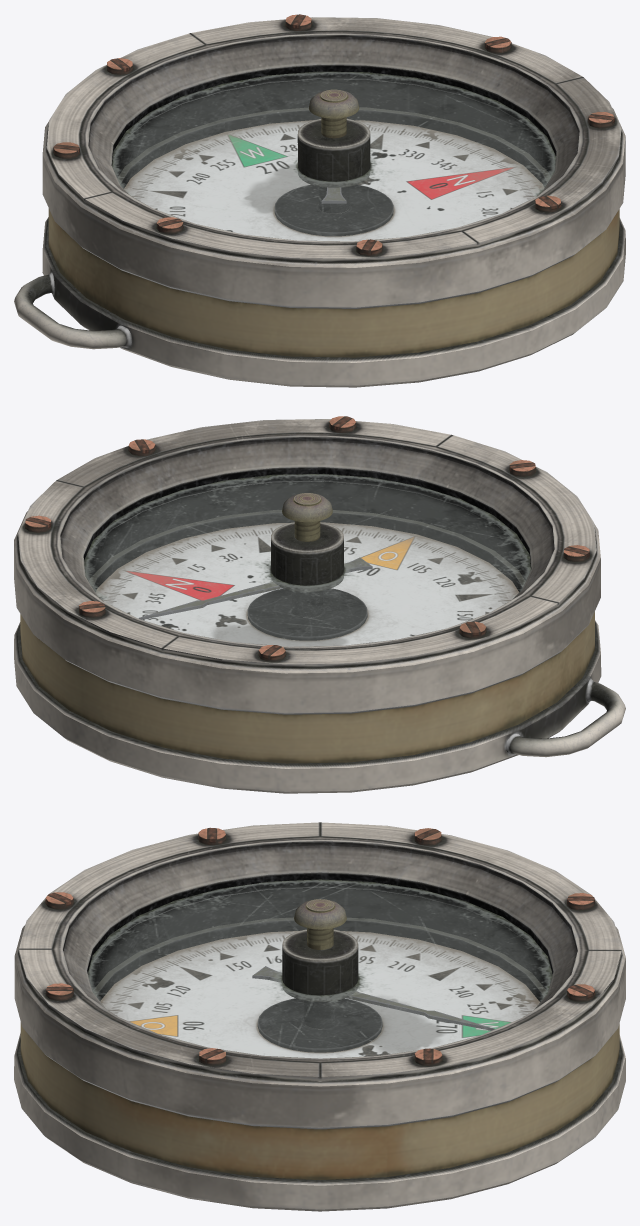
File: dieselpunk-compass.glb
The picture shows the model from 3 angles, top to bottom: view 1: azimuth 30°, elevation 25°; view 2: azimuth 150°, elevation 25°; view 3: azimuth 270°, elevation 25°; orthographic projection. The views are drawn at different scales.
Visible parts, largest first — view 1: Object_2; view 2: Object_2; view 3: Object_2.
Part boxes in pixels (x1,y1,x2,y2): Object_2: (14, 14, 625, 387); Object_2: (14, 416, 625, 793); Object_2: (14, 822, 625, 1211).
Size of the model in its own units: 0.1887 by 0.0561 by 0.173.
Materials: 1 (1 with a texture image).
